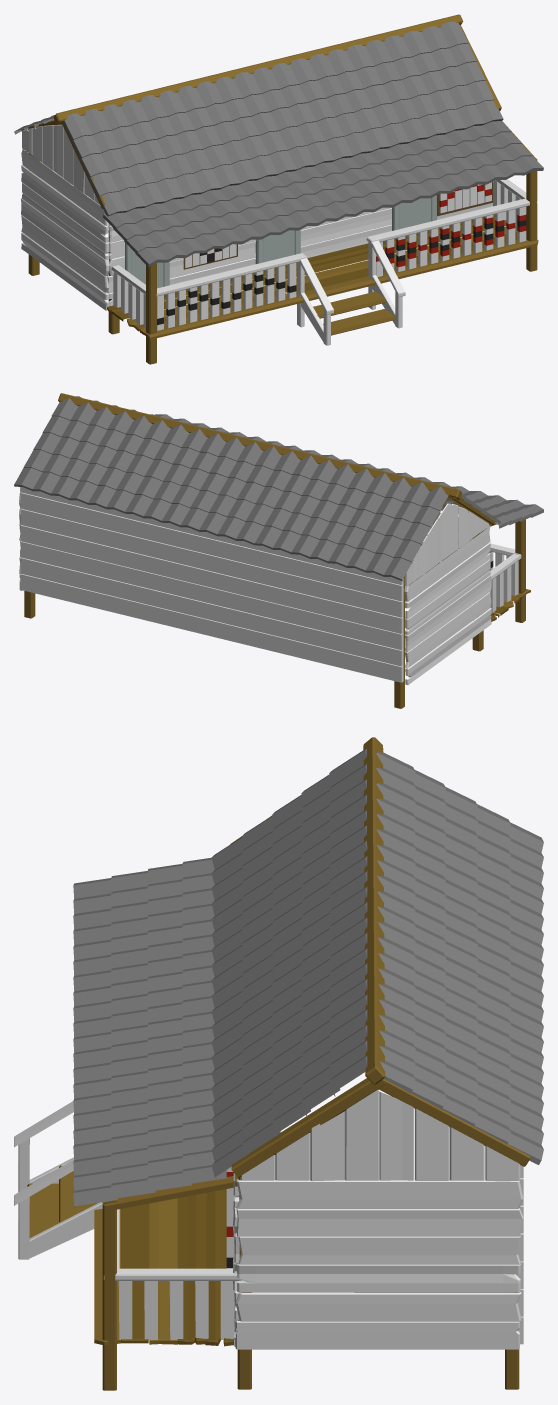
File: escolaEstilizada.fbx
The picture shows the model from 3 angles, top to bottom: view 1: azimuth 30°, elevation 25°; view 2: azimuth 150°, elevation 25°; view 3: azimuth 270°, elevation 25°; orthographic projection. The views are drawn at different scales.
Visible parts, largest first — view 1: estrutura.000, Base.002, newTelha.036, newTelha.033, newTelha.034, newTelha.035, newTelha.037, newTelha.043, newTelha.044, newTelha.045, newTelha.046, Escada (+10 smaller); view 2: estrutura.000, newTelha.032, newTelha.038, newTelha.039, newTelha.041, newTelha.040, Base.002, newTelha.043, pilar.002, madVaranda, newTelha.044; view 3: estrutura.000, Base.002, newTelha.043, newTelha.044, newTelha.036, newTelha.045, newTelha.038, newTelha.032, newTelha.041, newTelha.039, newTelha.040, newTelha.046 (+7 smaller).
Boxes of the visible parts, x1,y1,x2,y2 form: estrutura.000: (21,124,493,310); Base.002: (21,14,538,364); newTelha.036: (63,21,468,140); newTelha.033: (96,100,503,216); newTelha.034: (87,80,494,197); newTelha.035: (78,61,485,177); newTelha.037: (70,43,476,158); newTelha.043: (135,156,543,266); newTelha.044: (124,144,532,254); newTelha.045: (113,132,521,241); newTelha.046: (103,121,511,230); Escada: (297,240,405,345); estrutura.000: (19,487,491,685); newTelha.032: (14,467,413,581); newTelha.038: (23,450,423,563); newTelha.039: (33,433,432,545); newTelha.041: (51,398,448,510); newTelha.040: (42,416,442,528); Base.002: (19,393,530,708); newTelha.043: (154,414,543,517); pilar.002: (490,561,518,612); madVaranda: (490,543,521,579); newTelha.044: (463,494,532,521); estrutura.000: (233,1089,523,1349); Base.002: (94,737,530,1390); newTelha.043: (73,878,117,1209); newTelha.044: (111,871,155,1198); newTelha.036: (329,748,367,1096); newTelha.045: (147,863,191,1195); newTelha.038: (474,804,510,1144); newTelha.032: (508,822,543,1164); newTelha.041: (376,752,415,1093); newTelha.039: (442,787,477,1126); newTelha.040: (411,770,445,1109); newTelha.046: (182,857,226,1187).
Size of the model in its own units: 1437 by 661 by 971.
